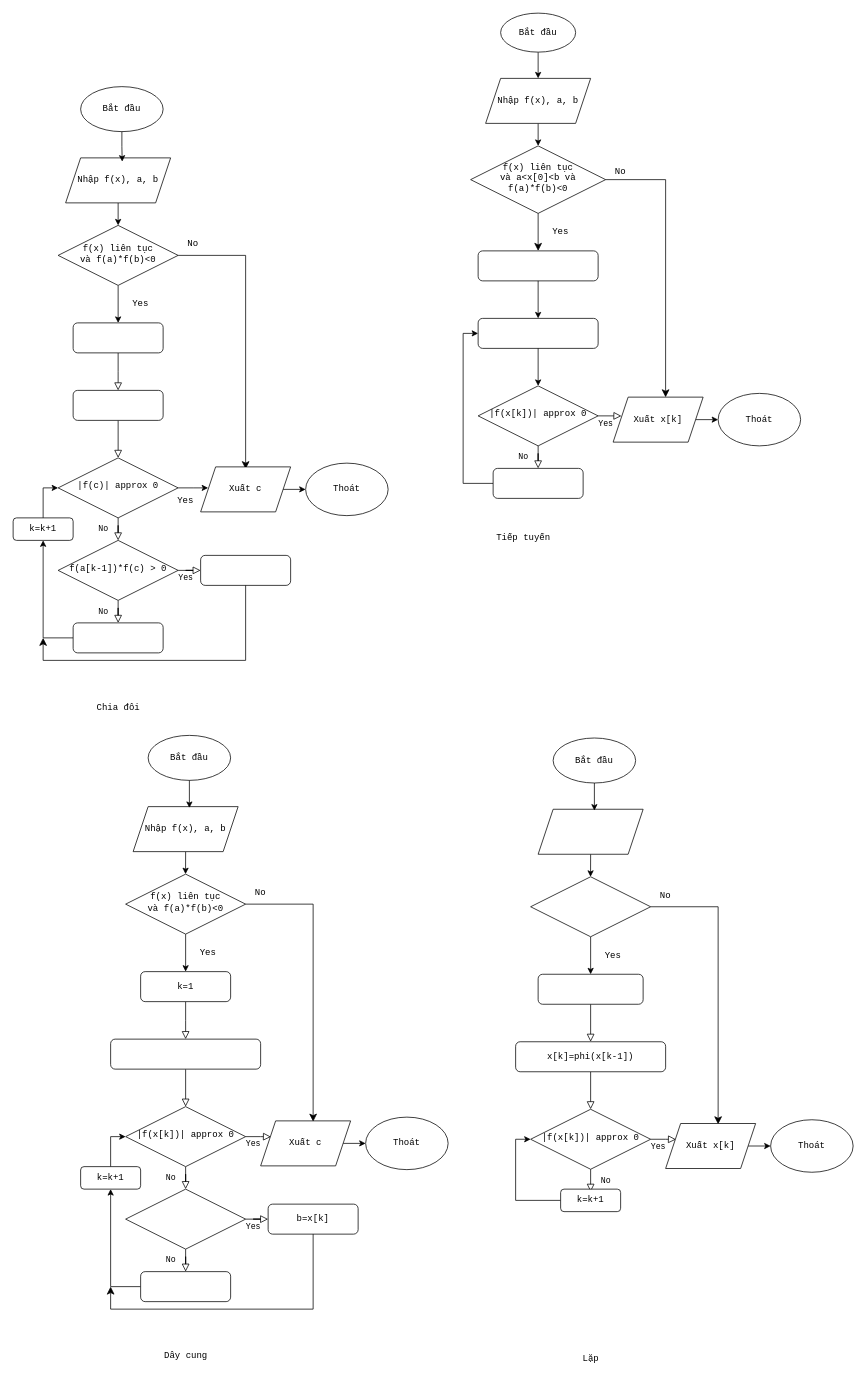
Image size: 866x1383. Some labels were removed from this diagram. Each missing label, with the box of its shape:
a = a[0] b = b[0]: (72, 322, 163, 353)
a, b, k=1: (477, 250, 598, 281)
a=x[k]: (140, 1271, 231, 1302)
a[k]=c, b[k]= b[k-1]: (200, 555, 291, 585)
b[k] = c, a[k] = a[k-1]: (72, 622, 163, 653)
c = (a+b)/2: (72, 390, 163, 420)
f(x[k])*f(a)<0: (125, 1188, 246, 1249)
f, phi liên tục và f(a)*f(b)<0: (530, 876, 651, 937)
k = k+1: (492, 468, 583, 498)
Nhập f(x), phi(x), a, b: (537, 808, 643, 854)
x[0] \in [a,b], k=1: (537, 974, 643, 1004)
x[k]=a-(b-a)/(f(b)-f(a))*f(a): (110, 1038, 261, 1069)
x[k]=x[k-1]-(f(x[k-1])-f'([k-1]): (477, 318, 598, 348)
